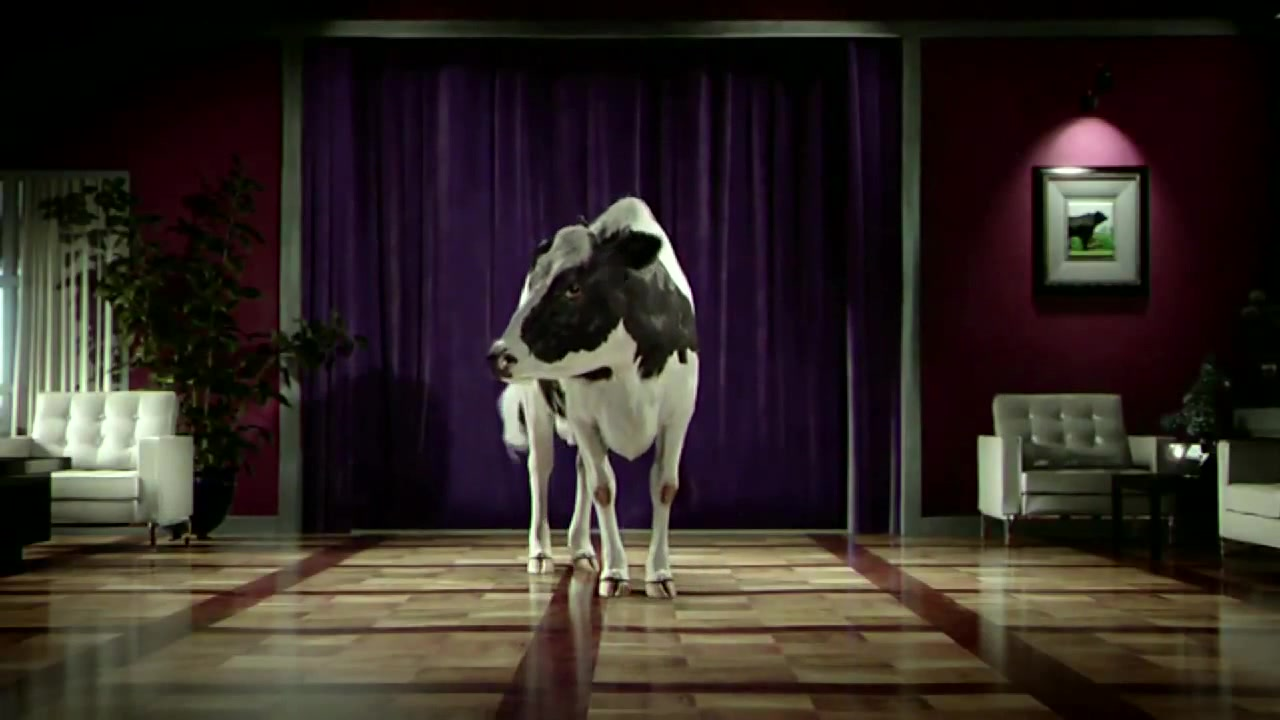cow: (488, 197, 706, 604)
